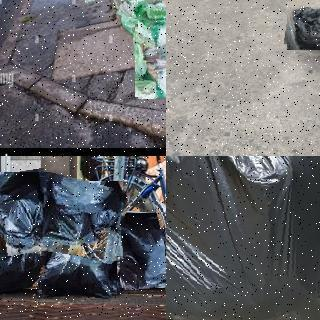Garbage: (166, 156, 320, 320), (36, 177, 127, 260), (40, 216, 119, 297), (0, 170, 53, 256), (118, 211, 166, 289), (0, 218, 43, 295), (133, 22, 166, 98), (285, 0, 320, 52), (135, 0, 166, 45), (105, 0, 162, 19)
